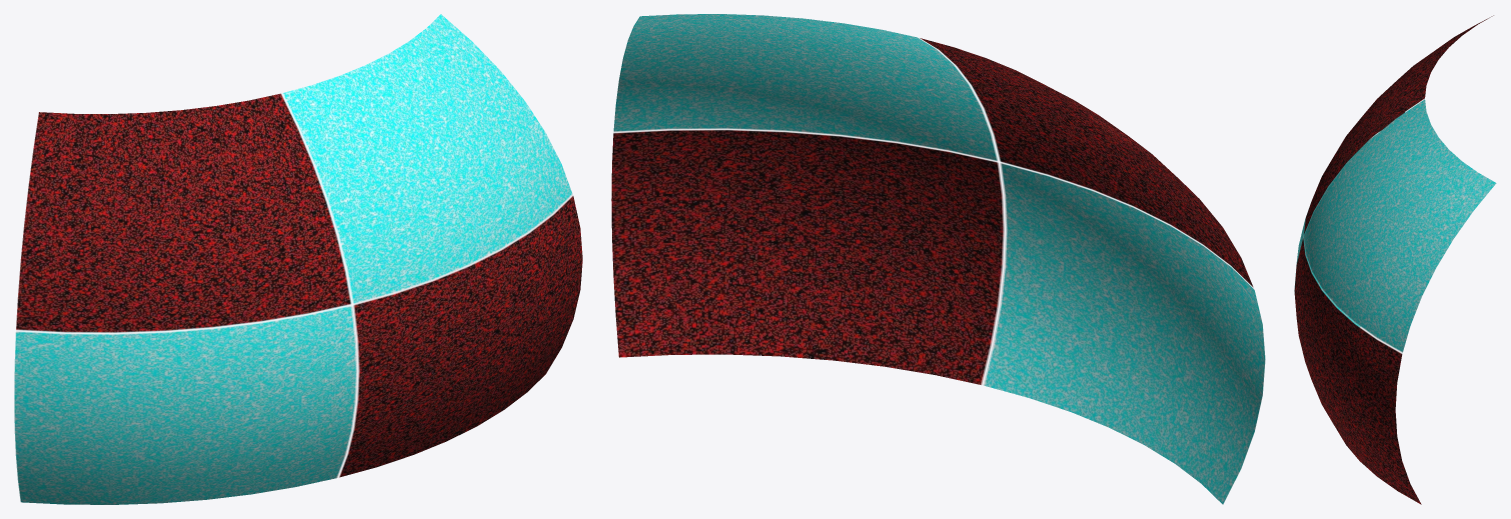
The picture shows the model from 3 angles, left to right: view 1: azimuth 30°, elevation 25°; view 2: azimuth 150°, elevation 25°; view 3: azimuth 270°, elevation 25°; orthographic projection. The views are drawn at different scales.
Parts seen in each view (by area): view 1: SM_Sphere_Peace_01_LOD0; view 2: SM_Sphere_Peace_01_LOD0; view 3: SM_Sphere_Peace_01_LOD0.
Part boxes in pixels (x1,y1,x2,y2): SM_Sphere_Peace_01_LOD0: (14, 14, 582, 504); SM_Sphere_Peace_01_LOD0: (611, 14, 1265, 504); SM_Sphere_Peace_01_LOD0: (1294, 15, 1496, 504).
Bounding box in the file's own units: 0.4478 × 0.2585 × 0.16.
1 material, 1 textured.
